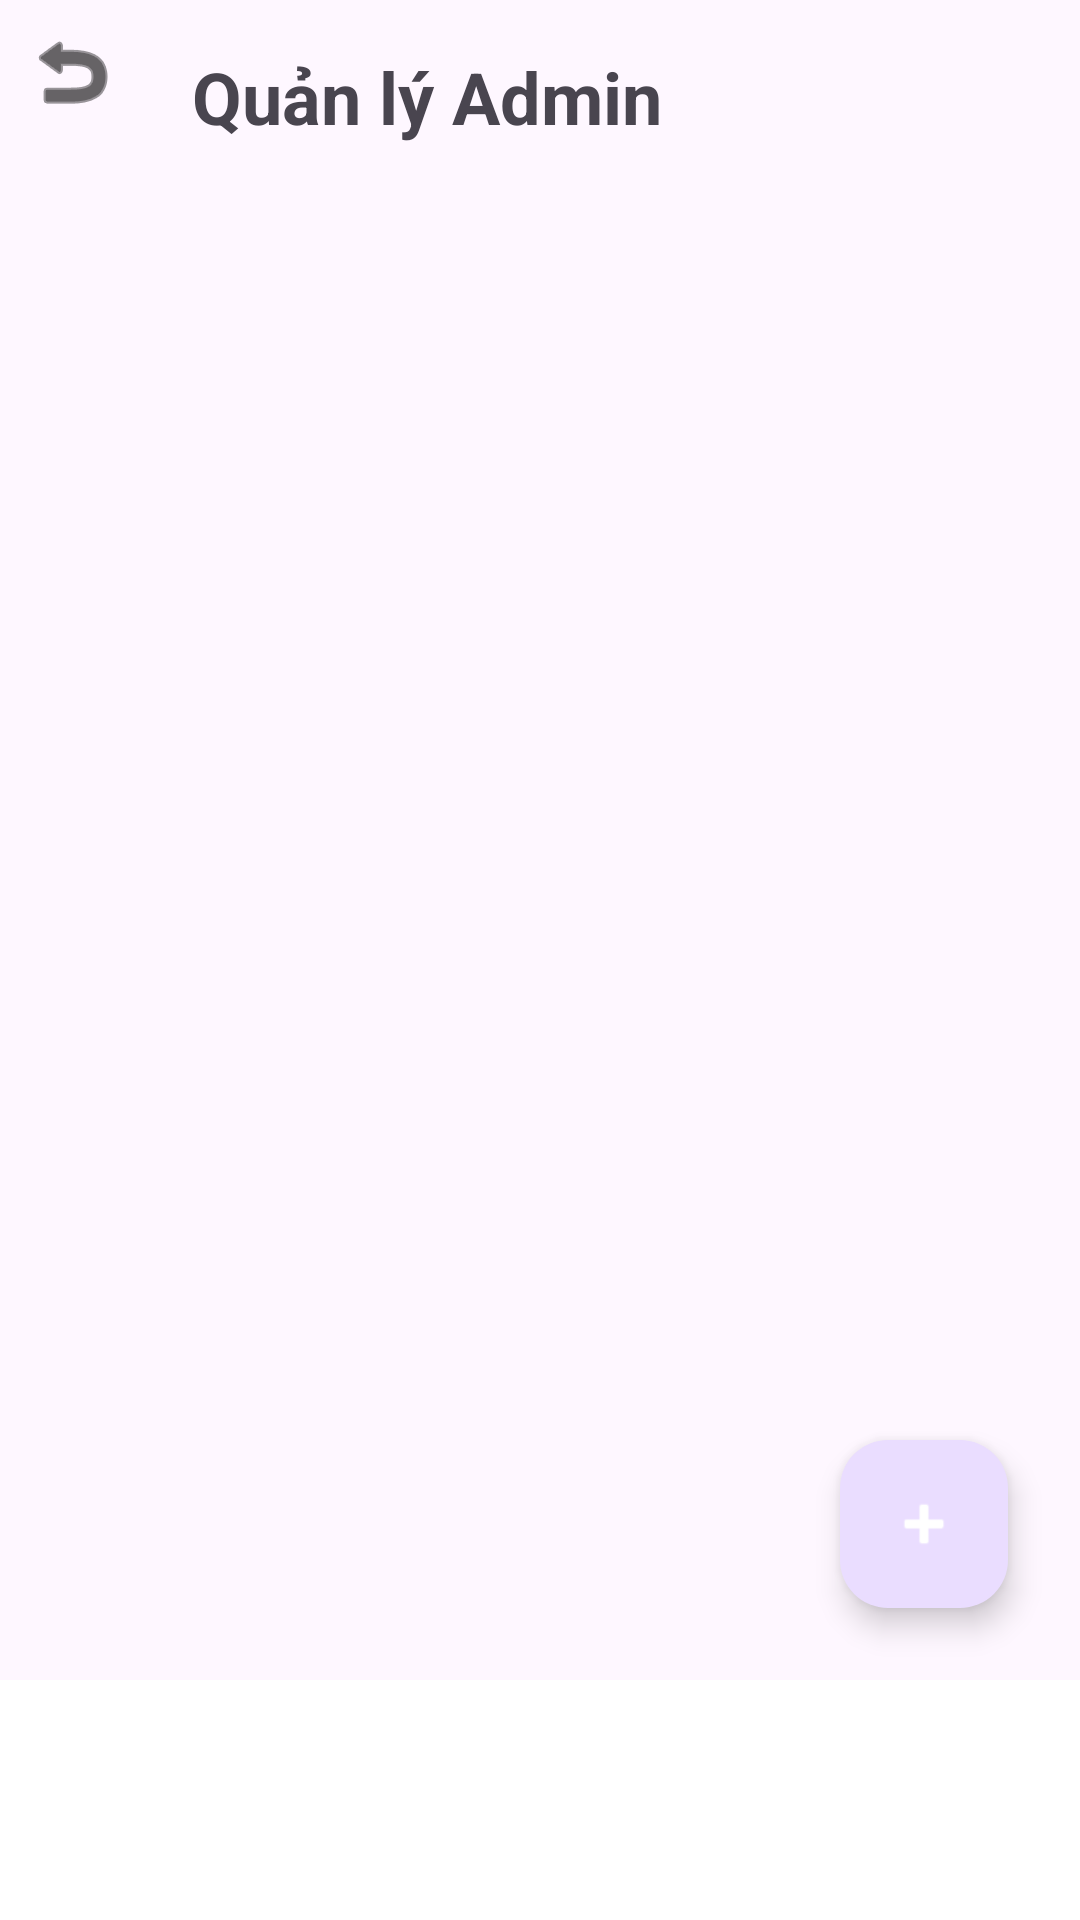

Icons on this 1080px×1920px Android screen, each with its box as BBox(x1, y1, x2, y2):
add: BBox(840, 1440, 1008, 1608)
Back to login: BBox(39, 41, 108, 104)
